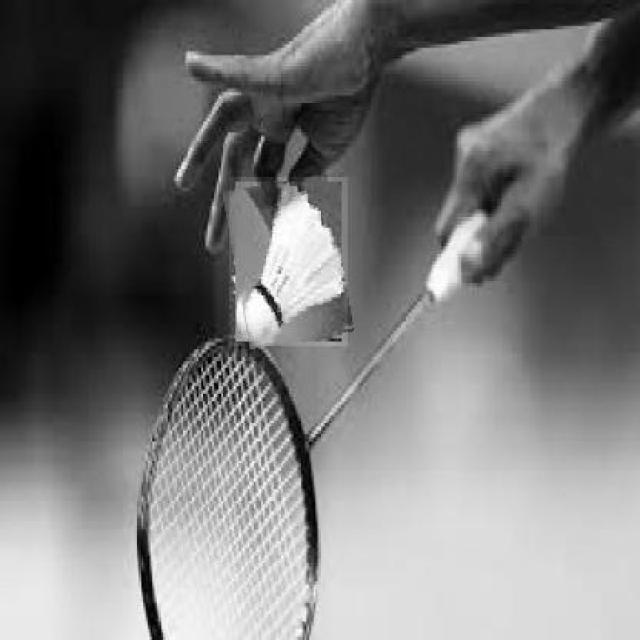Shuttlecock: (229, 177, 348, 346)
